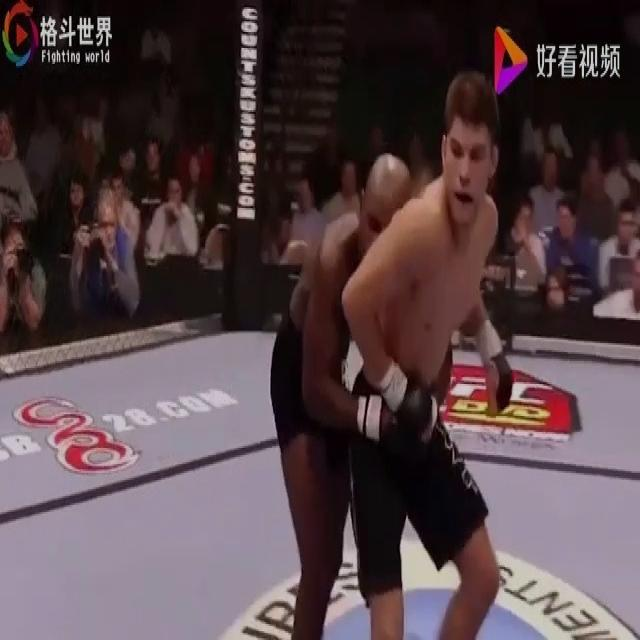fight: (274, 59, 512, 638)
non-fight: (68, 169, 141, 351), (0, 214, 55, 354), (142, 175, 199, 291), (542, 194, 600, 303), (0, 103, 41, 231), (596, 195, 640, 296)
